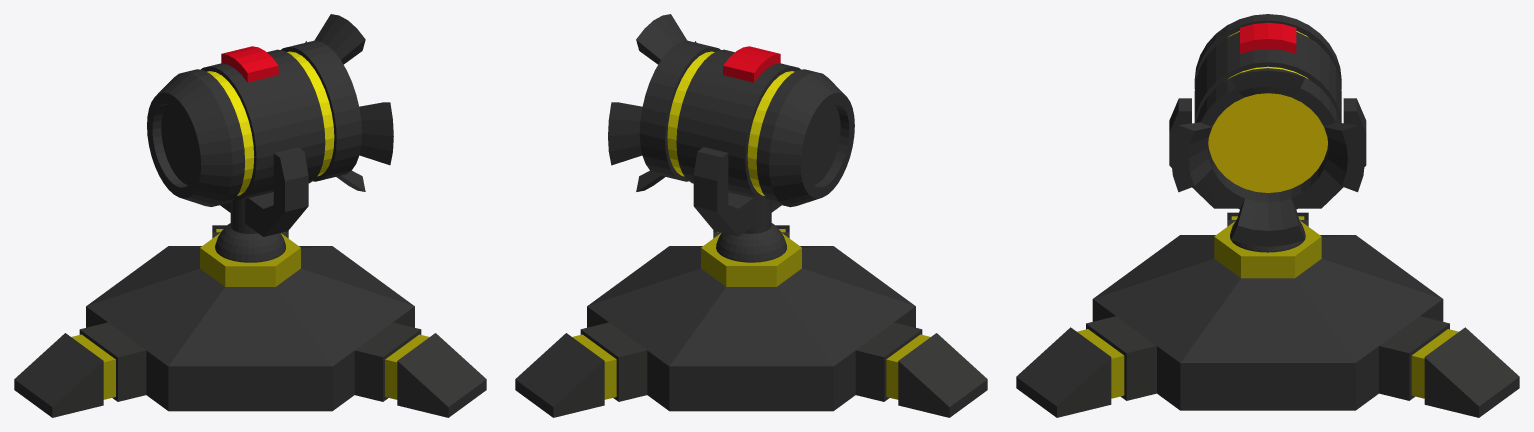
Rendered from Light.fbx.
3 views of the same model, side by side, from view 1: azimuth 30°, elevation 25°; view 2: azimuth 150°, elevation 25°; view 3: azimuth 270°, elevation 25° (orthographic). The views are drawn at different scales.
Parts seen in each view (by area): view 1: Body, Head, Leg; view 2: Body, Head, Leg; view 3: Body, Head, Leg.
Part boxes in pixels (x1,y1,x2,y2): Body: (14,225,486,417); Head: (147,14,393,206); Leg: (215,147,308,262); Body: (515,225,987,417); Head: (608,14,854,207); Leg: (693,147,786,262); Body: (1016,212,1519,417); Head: (1171,14,1365,246); Leg: (1169,98,1366,252).
Bounding box in the file's own units: 249 × 206 × 287.
